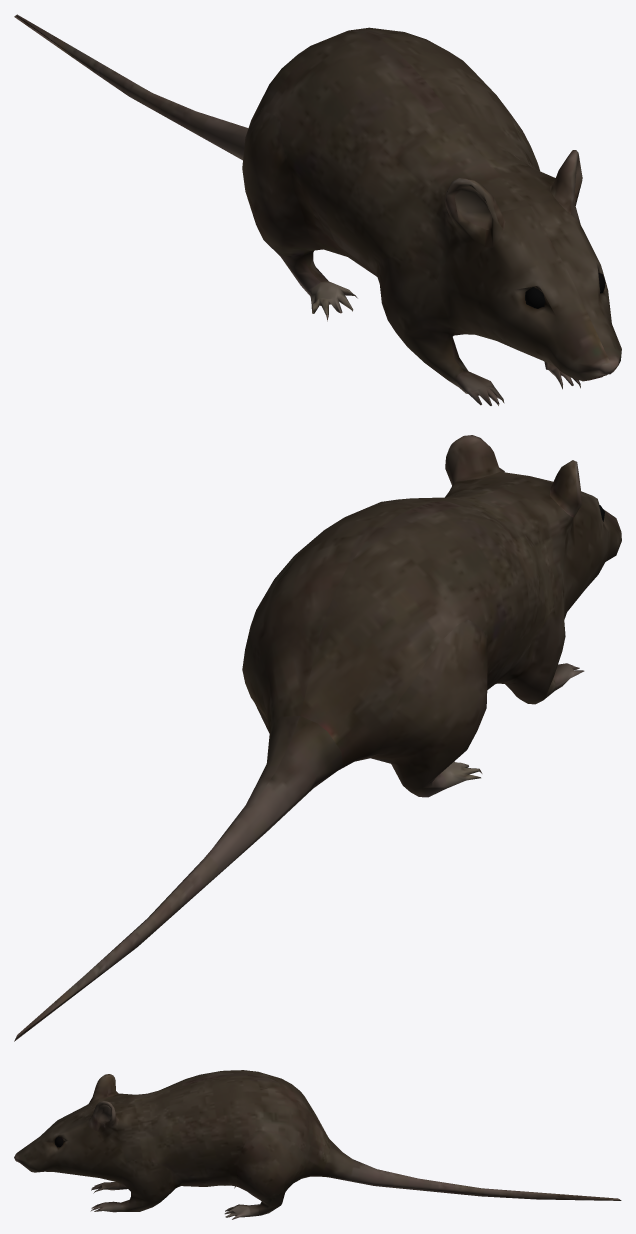
Rendered from p_street_rat.glb.
3 views of the same model, one above another, from view 1: azimuth 30°, elevation 25°; view 2: azimuth 150°, elevation 25°; view 3: azimuth 270°, elevation 25° (orthographic). The views are drawn at different scales.
Visible parts, largest first — view 1: street_rat; view 2: street_rat; view 3: street_rat.
Part boxes in pixels (x1,y1,x2,y2): street_rat: [14, 14, 621, 405]; street_rat: [14, 435, 621, 1041]; street_rat: [14, 1070, 621, 1219].
Size of the model in its own units: 0.0318 by 0.0337 by 0.1483.
Materials: 1 (1 with a texture image).
